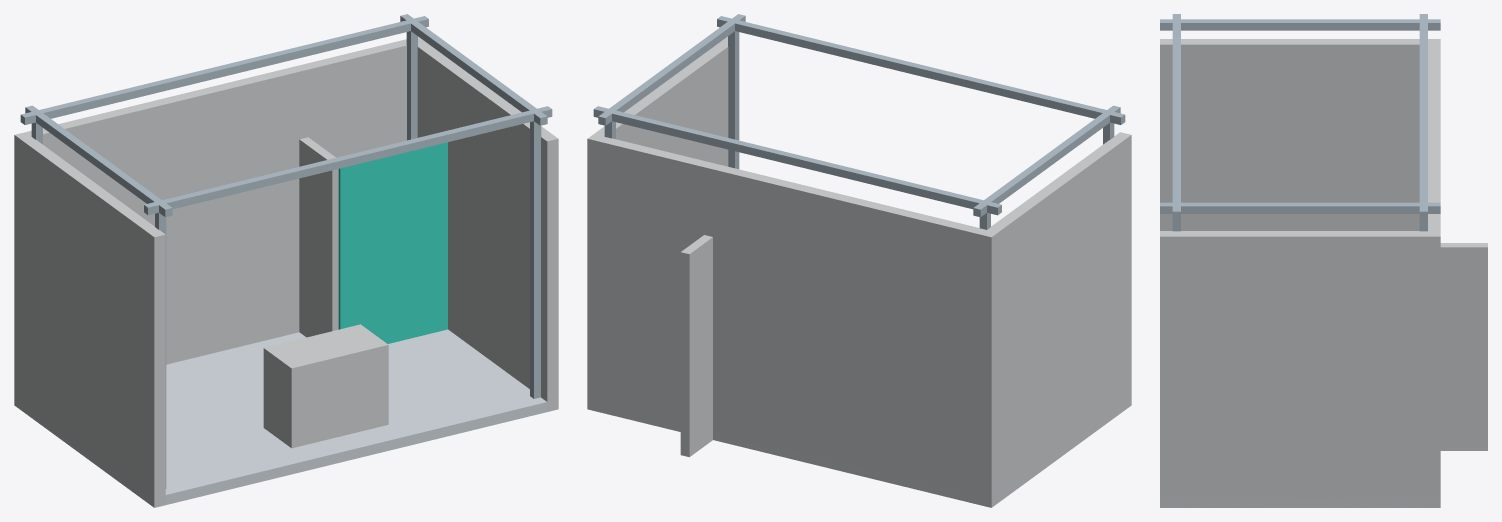
3 views of the same model, side by side, from view 1: azimuth 30°, elevation 25°; view 2: azimuth 150°, elevation 25°; view 3: azimuth 270°, elevation 25° (orthographic).
Parts seen in each view (by area): view 1: Exhibition Booth Concept; view 2: Exhibition Booth Concept; view 3: Exhibition Booth Concept.
Boxes of the visible parts, x1,y1,x2,y2 form: Exhibition Booth Concept: (14, 14, 558, 507); Exhibition Booth Concept: (587, 14, 1131, 507); Exhibition Booth Concept: (1160, 14, 1487, 507).
Size of the model in its own units: 5 by 3.49 by 3.51.
